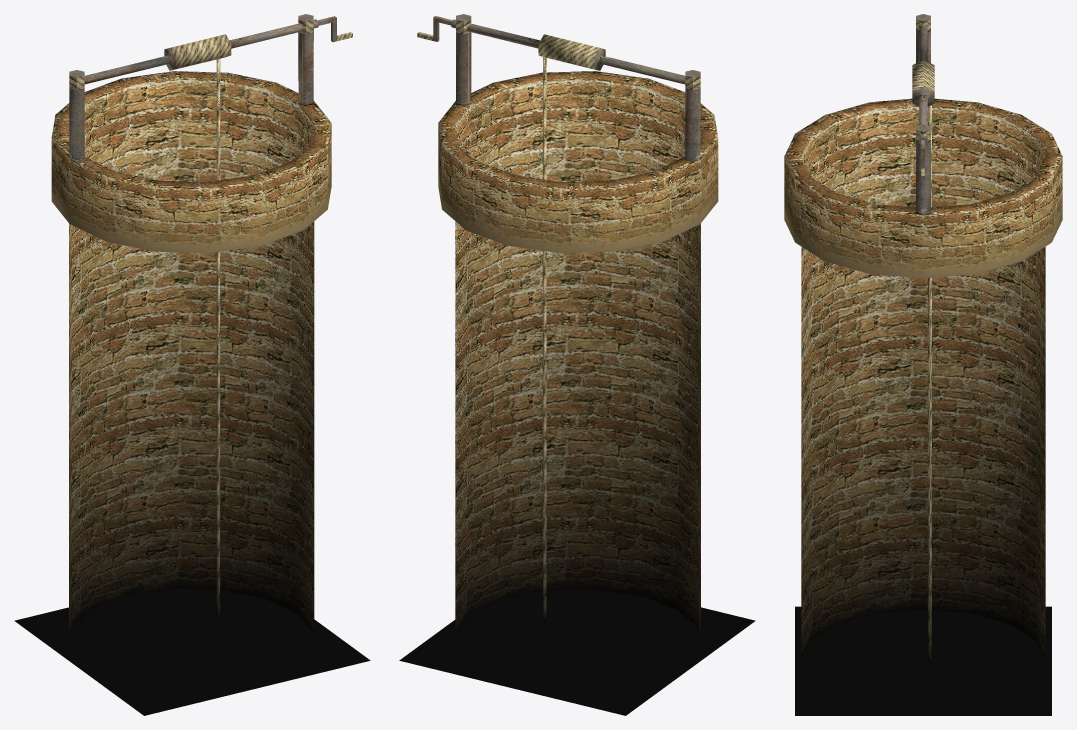
The model's file is Mission8_VillageWell.glb.
The picture shows the model from 3 angles, left to right: view 1: azimuth 30°, elevation 25°; view 2: azimuth 150°, elevation 25°; view 3: azimuth 270°, elevation 25°; orthographic projection.
Visible parts, largest first — view 1: MISSION8_VILLAGEWELL; view 2: MISSION8_VILLAGEWELL; view 3: MISSION8_VILLAGEWELL.
Boxes of the visible parts, x1,y1,x2,y2 form: MISSION8_VILLAGEWELL: (14, 14, 370, 715); MISSION8_VILLAGEWELL: (399, 14, 755, 715); MISSION8_VILLAGEWELL: (784, 14, 1062, 715).
Size of the model in its own units: 4.63 by 9.37 by 4.
5 materials, 5 textured.
